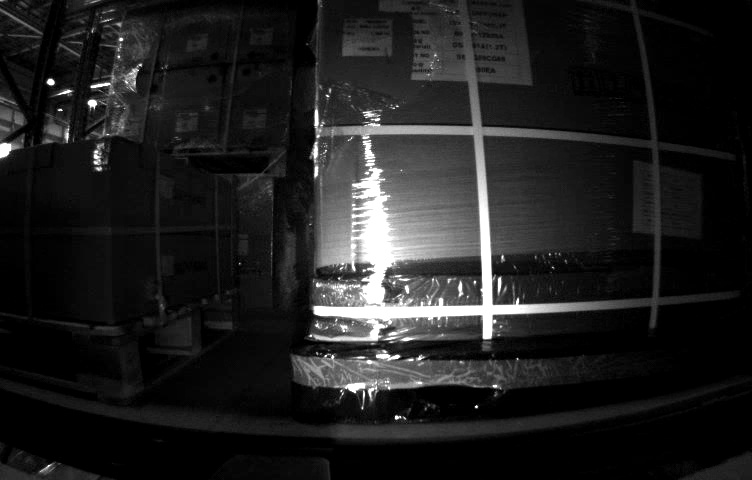True Barcode: (343, 23, 393, 56)
